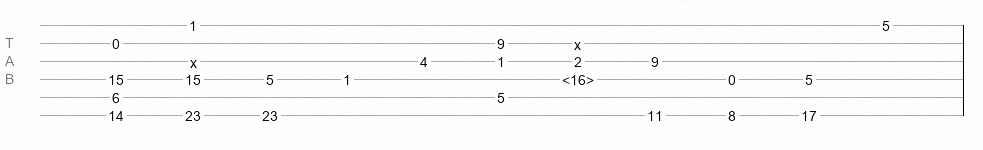0: (112, 36, 120, 46), (728, 72, 736, 82)
1: (189, 18, 197, 28), (343, 72, 351, 82), (497, 54, 505, 64)
11: (647, 108, 663, 118)
14: (108, 108, 124, 118)
15: (108, 72, 124, 82), (185, 72, 201, 82)
17: (801, 108, 817, 118)
2: (574, 54, 582, 64)
23: (185, 108, 201, 118), (262, 108, 278, 118)
4: (420, 54, 428, 64)
5: (266, 72, 274, 82), (497, 90, 505, 100), (805, 72, 813, 82), (882, 18, 890, 28)
6: (112, 90, 120, 100)
8: (728, 108, 736, 118)
9: (497, 36, 505, 46), (651, 54, 659, 64)
harmonic: (562, 72, 594, 82)
x: (190, 55, 197, 63), (574, 37, 581, 45)
